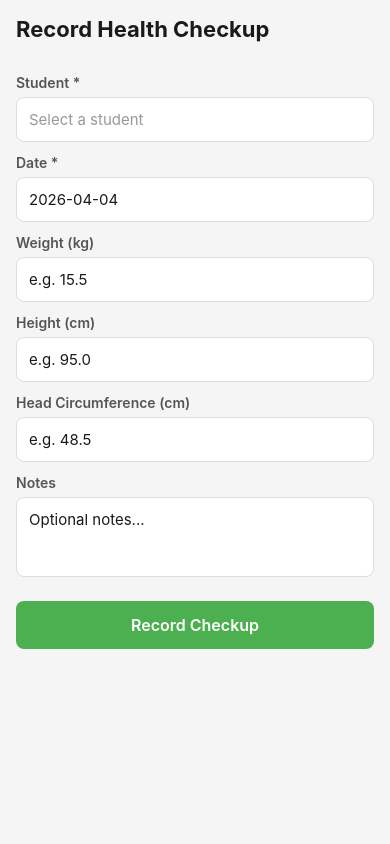
Test case: HealthCheckupsScreen › shows student dropdown when picker is pressed
What coordinates should you click on to do the following:
click the element with test id "student-picker-button"
I would click on:
 (195, 120)
Its box is left=16, top=97, right=374, bottom=142.
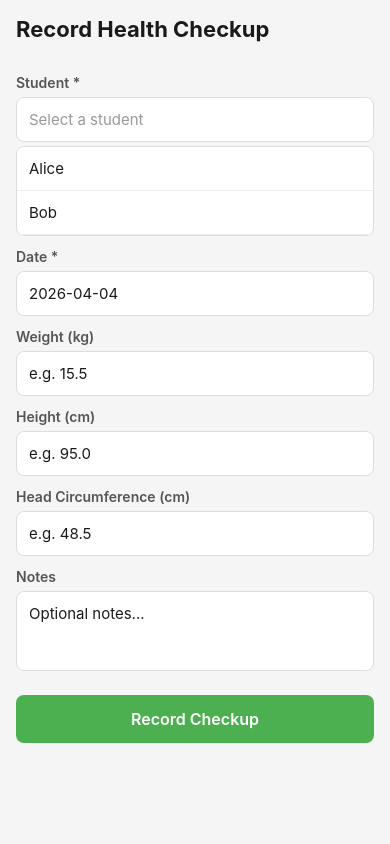
Expected: the element with test id "student-picker-dropdown" is shown, left=16, top=146, right=374, bottom=236
Expected: the element with test id "student-option-st1" is shown, left=17, top=147, right=373, bottom=191
Expected: the element with test id "student-option-st2" is shown, left=17, top=191, right=373, bottom=235
